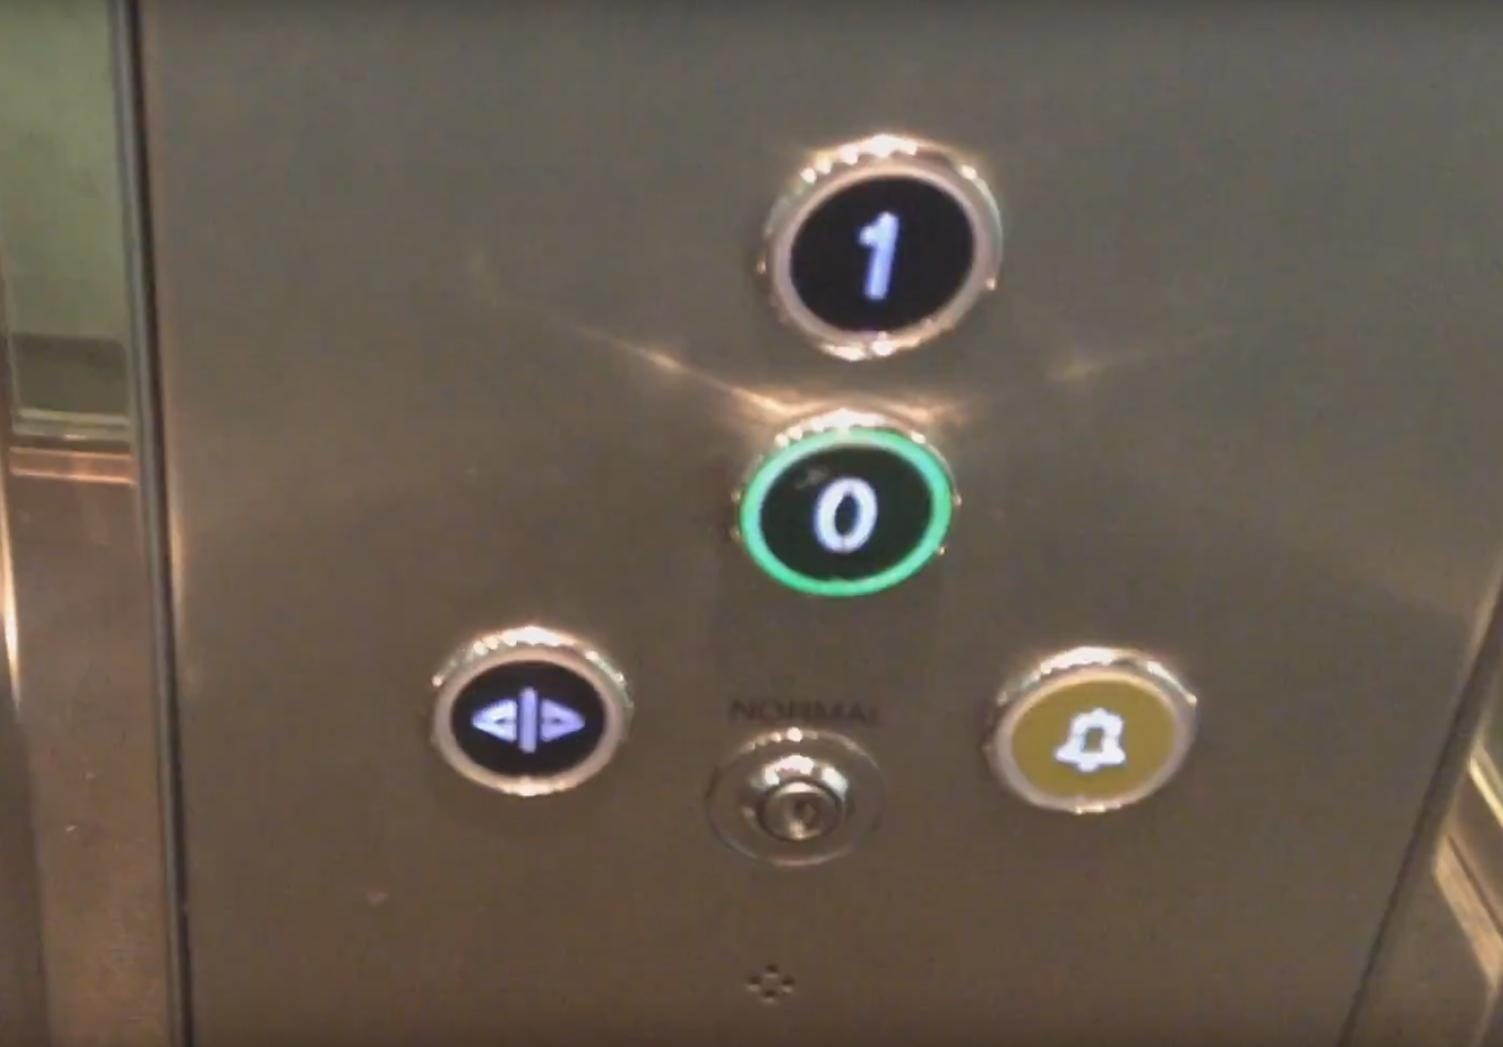0: (728, 409, 958, 599)
1: (759, 134, 1003, 362)
alarm: (983, 647, 1198, 818)
blur: (706, 730, 881, 864)
open: (426, 627, 630, 799)
